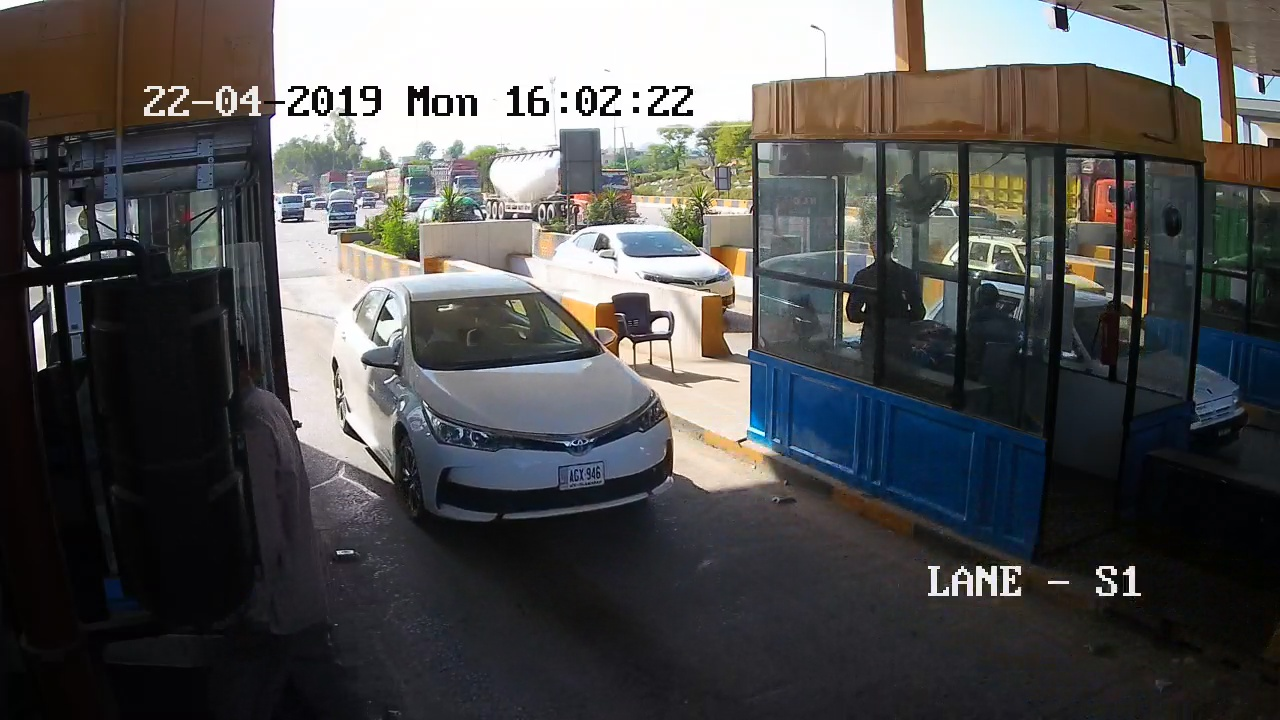Number Plate (Car): (556, 462, 607, 488)
